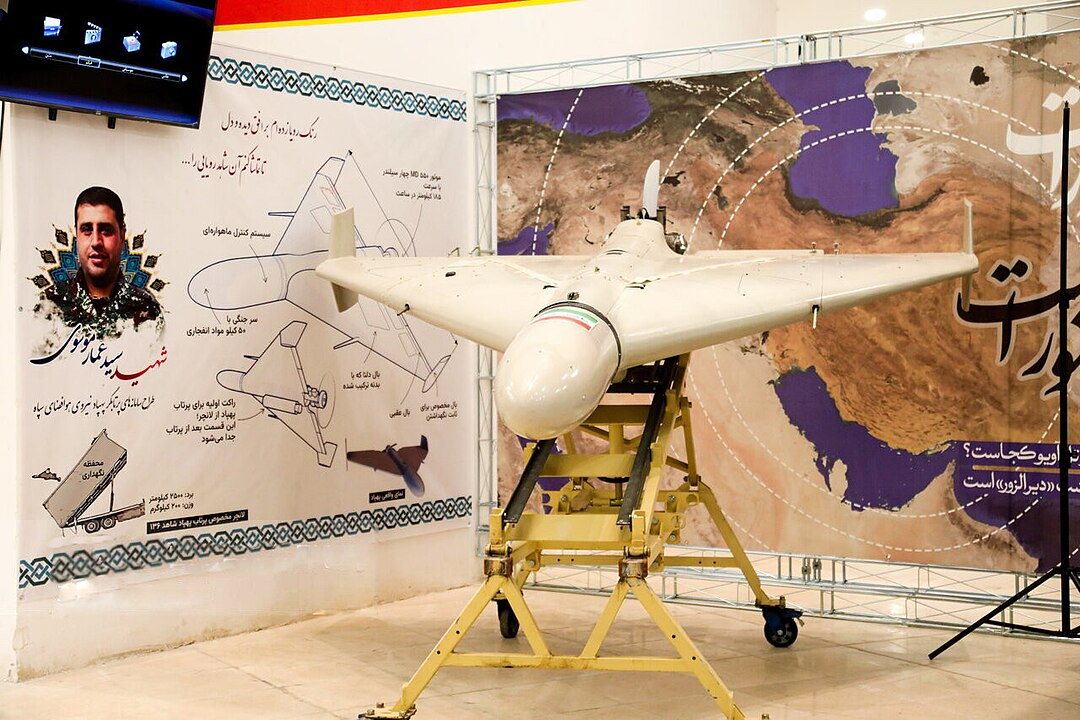shahed: (314, 160, 979, 451)
